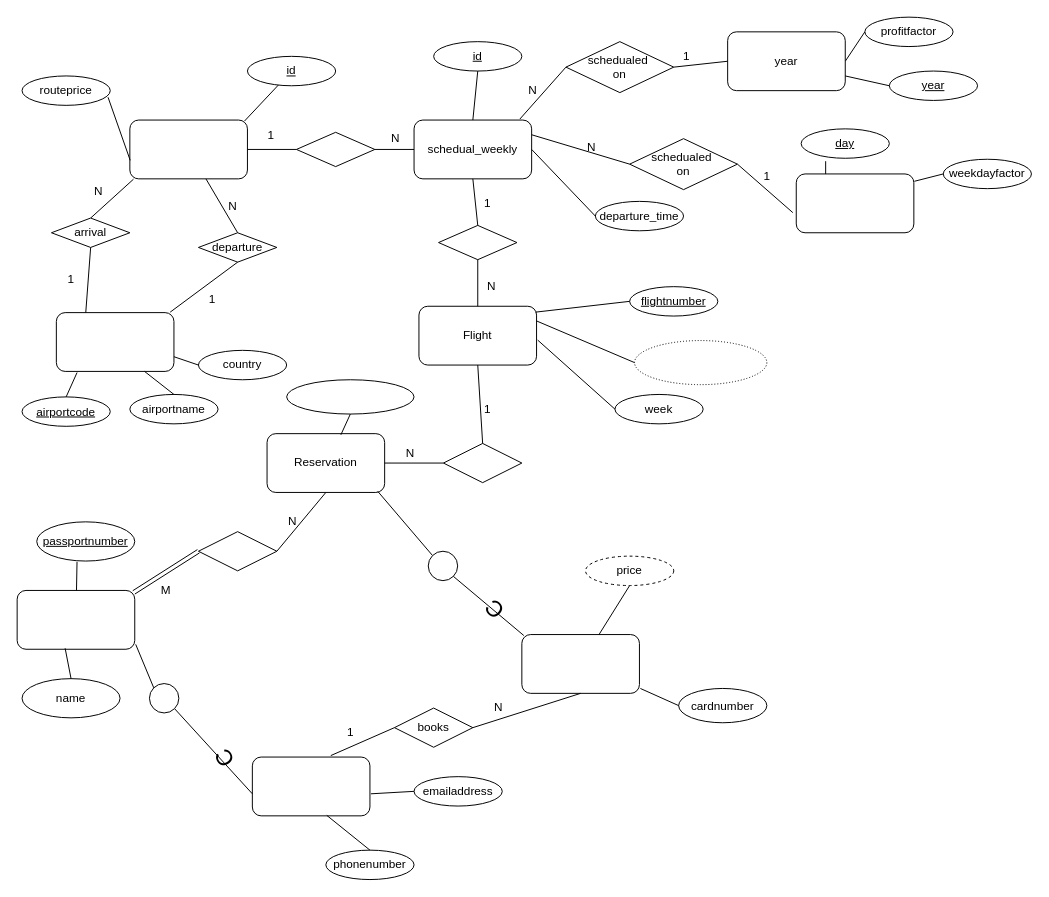
This 1049x897 diagram has some shape labels left out. Each missing label, with the centre of its shape:
airport: the point at 114,341
bookedpassengers: the point at 700,362
Booking: the point at 580,663
Contact: the point at 310,786
contains: the point at 335,149
in: the point at 237,551
occurs: the point at 477,242
Passenger: the point at 75,619
reservationnumber: the point at 350,396
reserves: the point at 482,462
Route: the point at 188,149
weekdays: the point at 854,203
